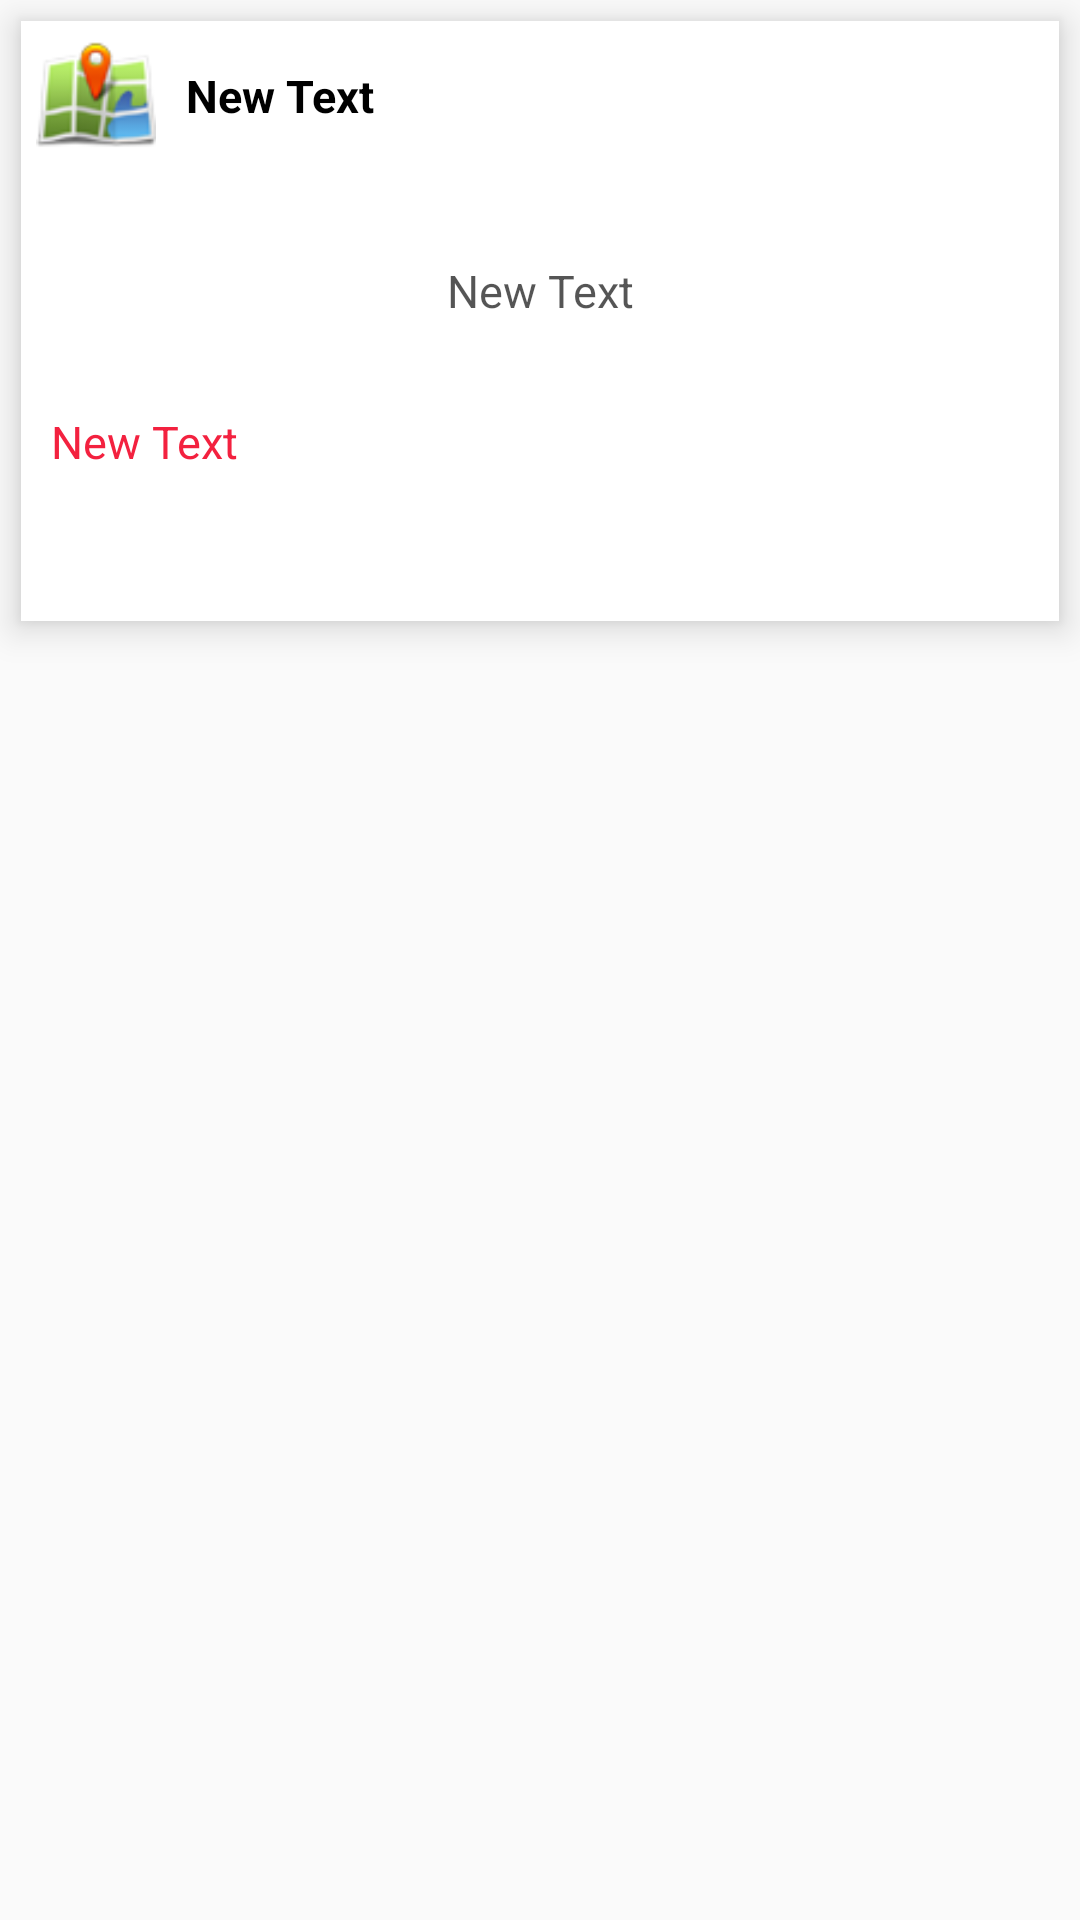

Locate icon controls on the screen. Image size 1080 × 1920, boxes as (x1=x1, y1=y1, x2=x2, y2=y2).
maps: (x1=37, y1=42, x2=156, y2=146)
